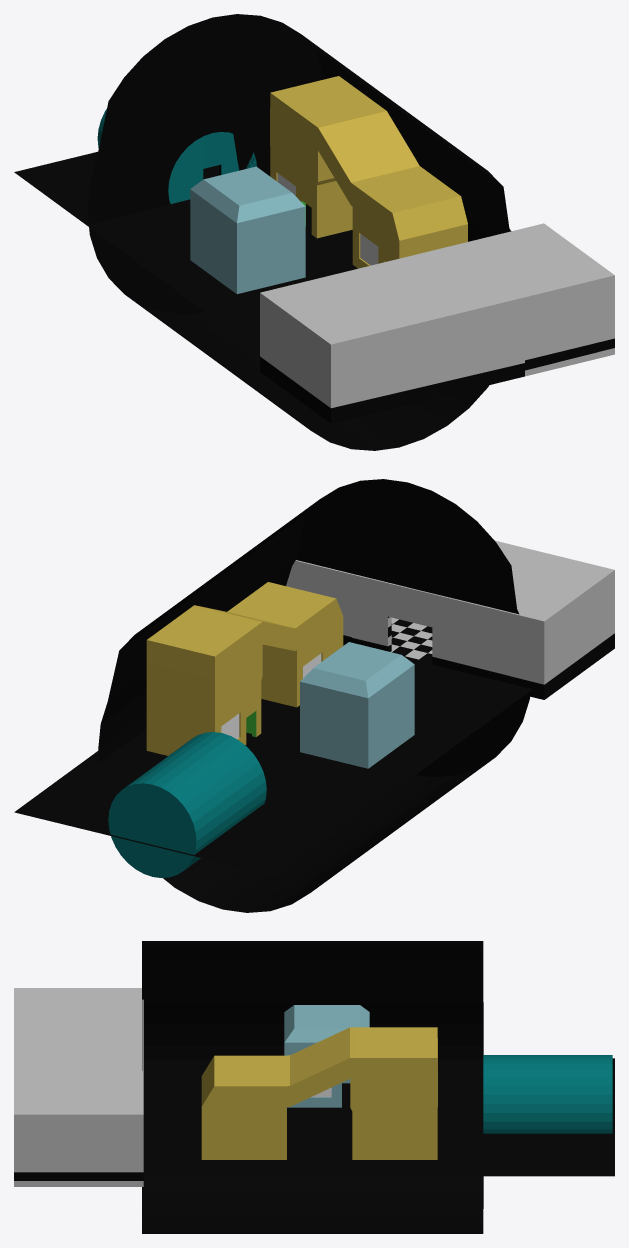
The model's file is PExplora.fbx.
3 views of the same model, one above another, from view 1: azimuth 30°, elevation 25°; view 2: azimuth 150°, elevation 25°; view 3: azimuth 270°, elevation 25° (orthographic). The views are drawn at different scales.
Parts seen in each view (by area): view 1: Cube.004, Cylinder.001, Cube.002, Plane, Cube.001, Cube, Cylinder; view 2: Cylinder.001, Plane, Cube.004, Cube.002, Cylinder, Cube.001, Cube; view 3: Cylinder.001, Plane, Cube.004, Cube.002, Cylinder, Cube, Cube.001.
Boxes of the visible parts, bbox=[...] form: Cube.004: bbox=[260, 223, 614, 423]; Cylinder.001: bbox=[87, 14, 511, 450]; Cube.002: bbox=[270, 76, 467, 268]; Plane: bbox=[14, 151, 357, 351]; Cube.001: bbox=[190, 166, 305, 293]; Cube: bbox=[270, 147, 352, 238]; Cylinder: bbox=[97, 109, 256, 203]; Cylinder.001: bbox=[98, 479, 529, 912]; Plane: bbox=[14, 617, 532, 876]; Cube.004: bbox=[286, 540, 614, 699]; Cube.002: bbox=[146, 582, 343, 710]; Cylinder: bbox=[108, 732, 266, 877]; Cube.001: bbox=[300, 642, 414, 768]; Cube: bbox=[146, 677, 261, 755]; Cylinder.001: bbox=[142, 941, 483, 1233]; Plane: bbox=[143, 1058, 614, 1176]; Cube.004: bbox=[14, 988, 143, 1186]; Cube.002: bbox=[201, 1027, 437, 1159]; Cylinder: bbox=[483, 1055, 612, 1133]; Cube: bbox=[352, 1107, 437, 1159]; Cube.001: bbox=[284, 1005, 369, 1107].
Size of the model in its own units: 23.36 by 23.07 by 46.83.
